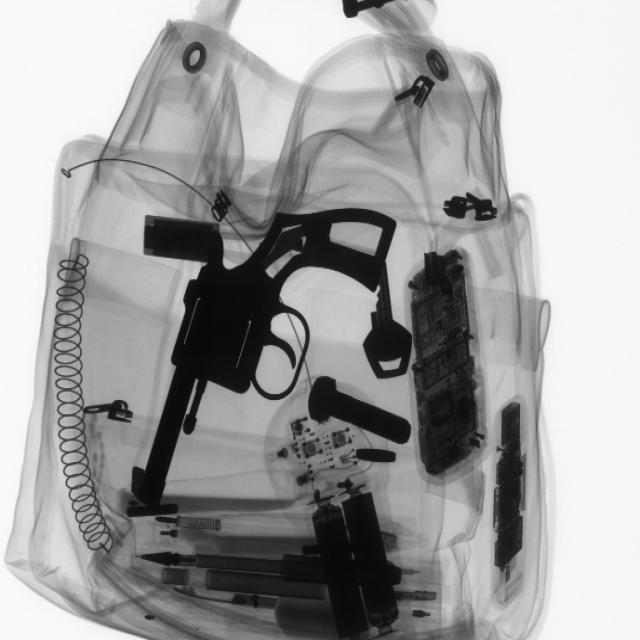GUN: (132, 203, 399, 517)
